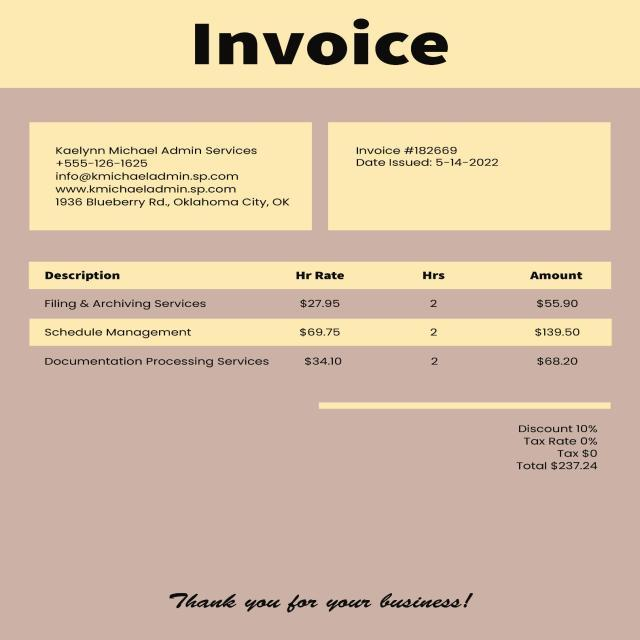ROI: (19, 255, 621, 384), (42, 134, 300, 220), (165, 14, 460, 80), (432, 408, 622, 495), (153, 584, 492, 620), (343, 139, 507, 176)
